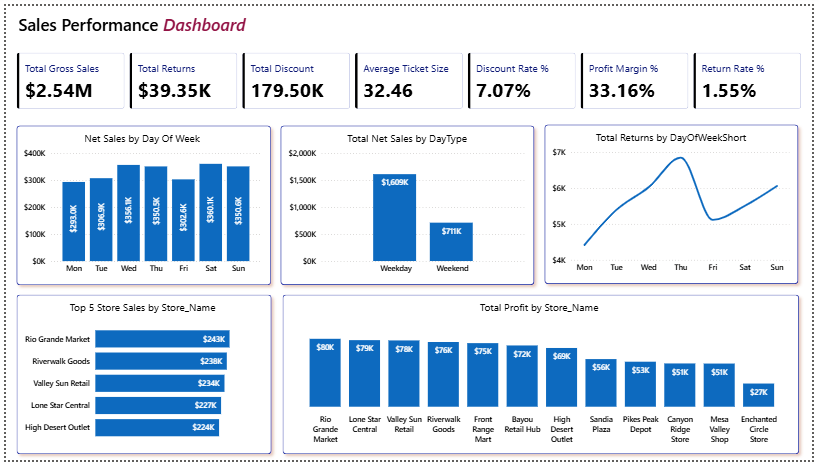

The dashboard page shown, as its layout file describes it:
{"tool":"powerbi","page":{"name":"Overview 2","canvas":[1280,720],"ordinal":1},"visuals":[{"type":"shape","box":[7.2,181.6,421.3,271.1],"z":0},{"type":"shape","box":[427.5,181.6,420.5,270.7],"z":1000},{"type":"shape","box":[7.2,449.7,422.3,271],"z":2000},{"type":"shape","box":[429.5,449.7,837.5,271],"z":3000},{"type":"textbox","box":[14.4,5.8,422.3,51.9],"z":4000},{"type":"cardVisual","fields":{"Data":["_Measures.Total Gross Sales","_Measures.Total Returns","_Measures.Total Discount","_Measures.Average Ticket Size","_Measures.Discount Rate %","_Measures.Profit Margin %","_Measures.Return Rate %"]},"box":[0,57.7,1280,124],"z":5000},{"type":"columnChart","title":"Net Sales by Day Of Week","fields":{"Y":["_Measures.Total Net Sales"],"Category":["Date_table.DayOfWeekShort"]},"box":[22.2,198.4,387.3,236.5],"z":6000},{"type":"barChart","fields":{"Category":["store_performance.Store_Name"],"Y":["_Measures.Top 5 Store Sales"]},"box":[24.5,467,386.3,236.4],"z":7000},{"type":"columnChart","fields":{"Y":["_Measures.Total Net Sales"],"Category":["Date_table.DayType"]},"box":[442.5,198.9,387.7,236.4],"z":8000},{"type":"shape","box":[845.5,180.1,420.5,270.7],"z":9000},{"type":"lineChart","fields":{"Y":["_Measures.Total Returns"],"Category":["Date_table.DayOfWeekShort"]},"box":[861.3,197.4,387.4,236.2],"z":10000},{"type":"columnChart","fields":{"Y":["_Measures.Total Profit"],"Category":["store_performance.Store_Name"]},"box":[442.5,467,807.2,236.4],"z":11000}]}

Visuals, with their boxes in screenshot pixels (x1, y1, x2, y2), scaled from the page's 1280x720 canvas onto the 819x467 screenshot:
shape: {"left": 5, "top": 118, "right": 274, "bottom": 294}
shape: {"left": 274, "top": 118, "right": 543, "bottom": 293}
shape: {"left": 5, "top": 292, "right": 275, "bottom": 466}
shape: {"left": 275, "top": 292, "right": 811, "bottom": 466}
textbox: {"left": 9, "top": 4, "right": 279, "bottom": 37}
cardVisual - _Measures.Total Gross Sales x _Measures.Total Returns: {"left": 0, "top": 37, "right": 818, "bottom": 118}
"Net Sales by Day Of Week" columnChart: {"left": 14, "top": 129, "right": 262, "bottom": 282}
barChart - store_performance.Store_Name x _Measures.Top 5 Store Sales: {"left": 16, "top": 303, "right": 263, "bottom": 456}
columnChart - _Measures.Total Net Sales x Date_table.DayType: {"left": 283, "top": 129, "right": 531, "bottom": 282}
shape: {"left": 541, "top": 117, "right": 810, "bottom": 292}
lineChart - _Measures.Total Returns x Date_table.DayOfWeekShort: {"left": 551, "top": 128, "right": 799, "bottom": 281}
columnChart - _Measures.Total Profit x store_performance.Store_Name: {"left": 283, "top": 303, "right": 800, "bottom": 456}
